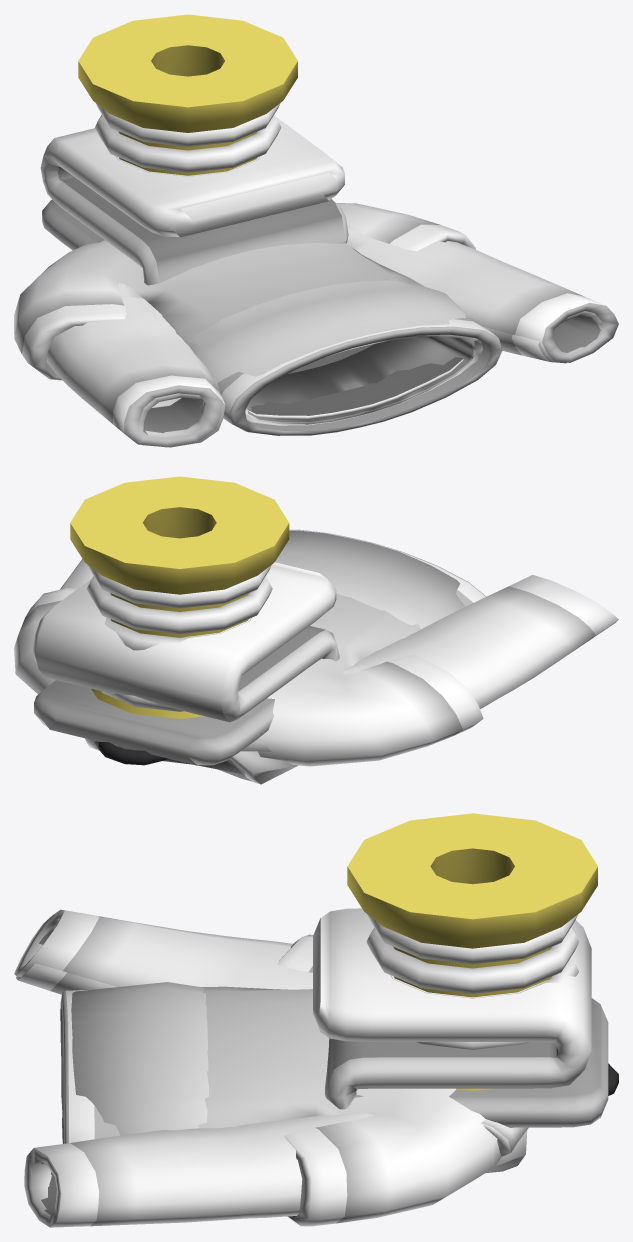
Rendered from Cloth_just Step.fbx.
The picture shows the model from 3 angles, top to bottom: view 1: azimuth 30°, elevation 25°; view 2: azimuth 150°, elevation 25°; view 3: azimuth 270°, elevation 25°; orthographic projection. The views are drawn at different scales.
Visible parts, largest first — view 1: hoodie_conveyor_vip, clothes_man_tshirt, folded_clothes, spool, clothes_man_hoodie, clothes_man_tanktop; view 2: folded_clothes, spool, hoodie_conveyor_vip, clothes_man_tshirt, WoodHanger_UNWRAPED_001_1; view 3: hoodie_conveyor_vip, clothes_man_tshirt, folded_clothes, spool, clothes_man_hoodie, clothes_man_tanktop.
Part boxes in pixels (<box>): hoodie_conveyor_vip: <box>46,229,618,447</box>; clothes_man_tshirt: <box>14,203,502,435</box>; folded_clothes: <box>40,117,348,285</box>; spool: <box>78,14,297,202</box>; clothes_man_hoodie: <box>139,311,604,447</box>; clothes_man_tanktop: <box>247,344,463,419</box>; folded_clothes: <box>32,562,339,765</box>; spool: <box>70,476,289,749</box>; hoodie_conveyor_vip: <box>60,530,618,784</box>; clothes_man_tshirt: <box>14,529,486,766</box>; WoodHanger_UNWRAPED_001_1: <box>98,742,168,765</box>; hoodie_conveyor_vip: <box>14,909,527,1227</box>; clothes_man_tshirt: <box>60,934,501,1226</box>; folded_clothes: <box>313,908,608,1127</box>; spool: <box>347,813,597,1090</box>; clothes_man_hoodie: <box>16,925,117,1215</box>; clothes_man_tanktop: <box>481,1119,528,1156</box>.
Bounding box in the file's own units: 142 × 67.32 × 131.
